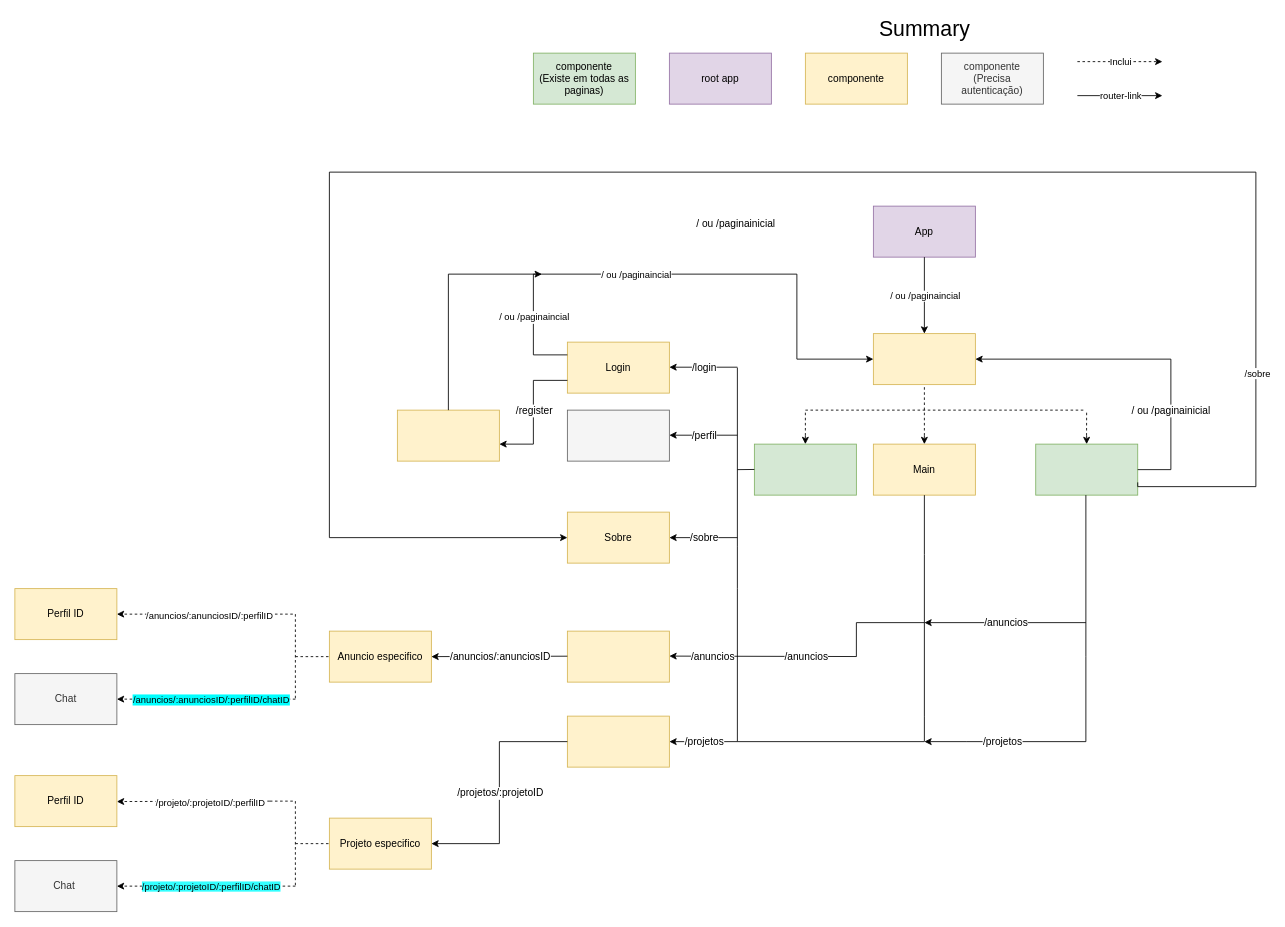
Some shapes in this 1285 by 927 pixel diagram are drawn without their labels. The centre of each missing label's shape, as x and y in pixels:
Anúncios: (x=618, y=656)
Footer: (x=1086, y=469)
Navbar: (x=805, y=469)
Perfil: (x=618, y=435)
Projetos: (x=618, y=741)
Página Inicial: (x=924, y=359)
Register: (x=448, y=435)
